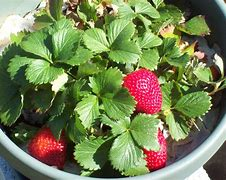Fresa: (29, 120, 70, 170), (129, 121, 169, 172), (121, 68, 162, 115)
